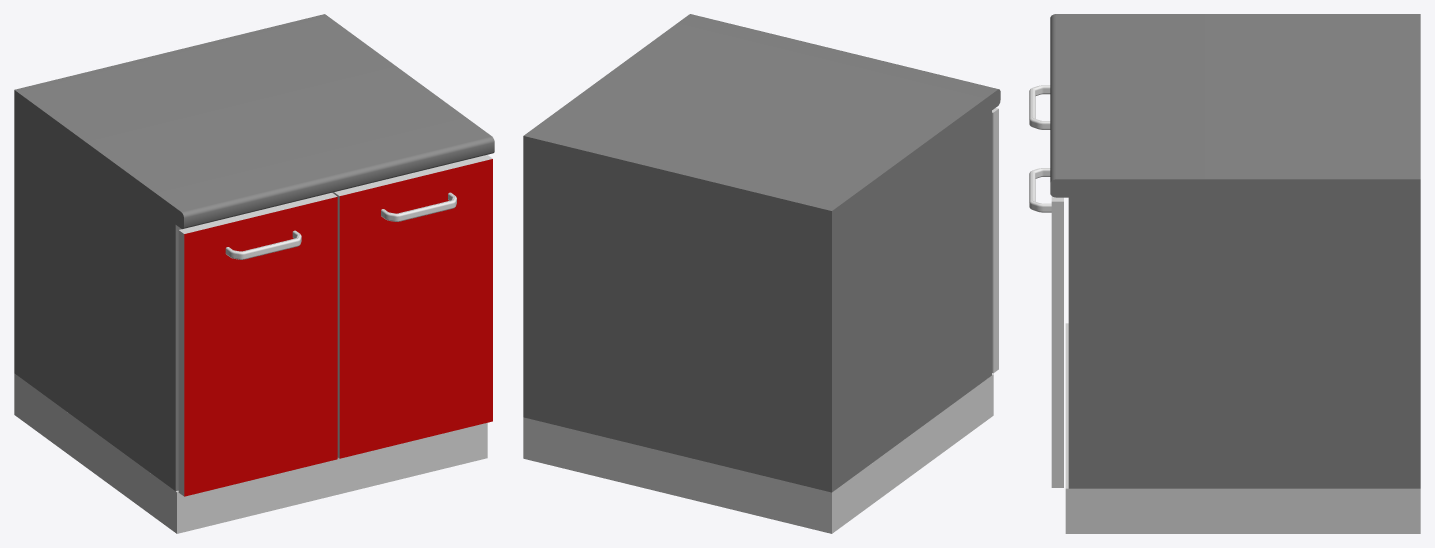
File: sh-lp-doppio.glb
3 renders of one model, left to right at view 1: azimuth 30°, elevation 25°; view 2: azimuth 150°, elevation 25°; view 3: azimuth 270°, elevation 25°, orthographic. The views are drawn at different scales.
Visible parts, largest first — view 1: Line67_10, Box522_4, Box52_3, Loft16_1; view 2: Line67_10, Box52_3; view 3: Line67_10, Box52_3, Loft16_1.
Boxes of the visible parts, x1,y1,x2,y2 form: Line67_10: [14, 14, 494, 491]; Box522_4: [184, 159, 492, 496]; Box52_3: [14, 155, 492, 533]; Loft16_1: [225, 192, 456, 259]; Line67_10: [523, 14, 1000, 492]; Box52_3: [523, 108, 998, 533]; Line67_10: [1050, 14, 1420, 488]; Box52_3: [1051, 196, 1420, 533]; Loft16_1: [1029, 85, 1051, 212].
Bounding box in the file's own units: 1 × 1 × 1.
